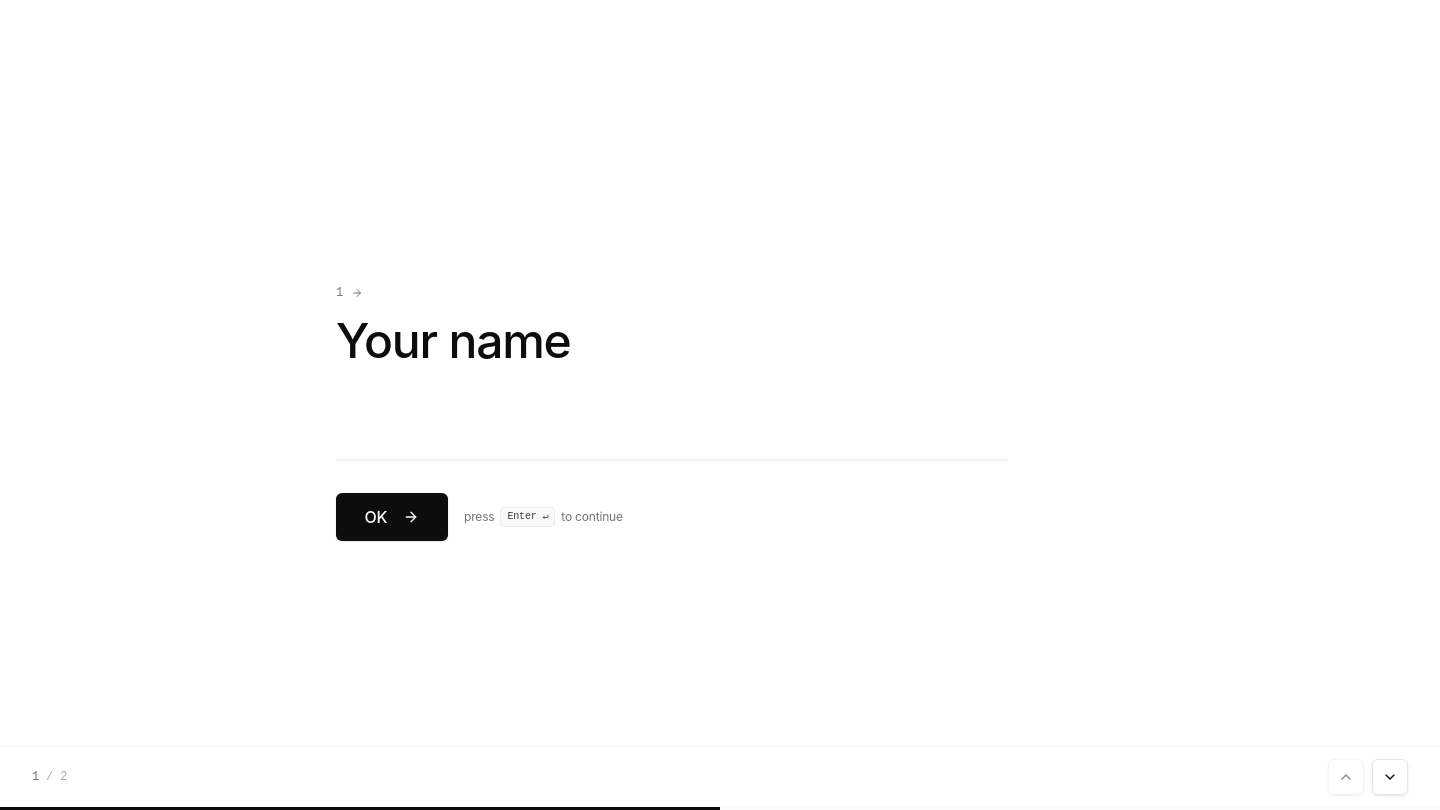
one-question flow on the last question › ignores Escape that an open control already handled
Click the button "OK" at (392, 517), box top-left (336, 493), bottom-right (448, 541)
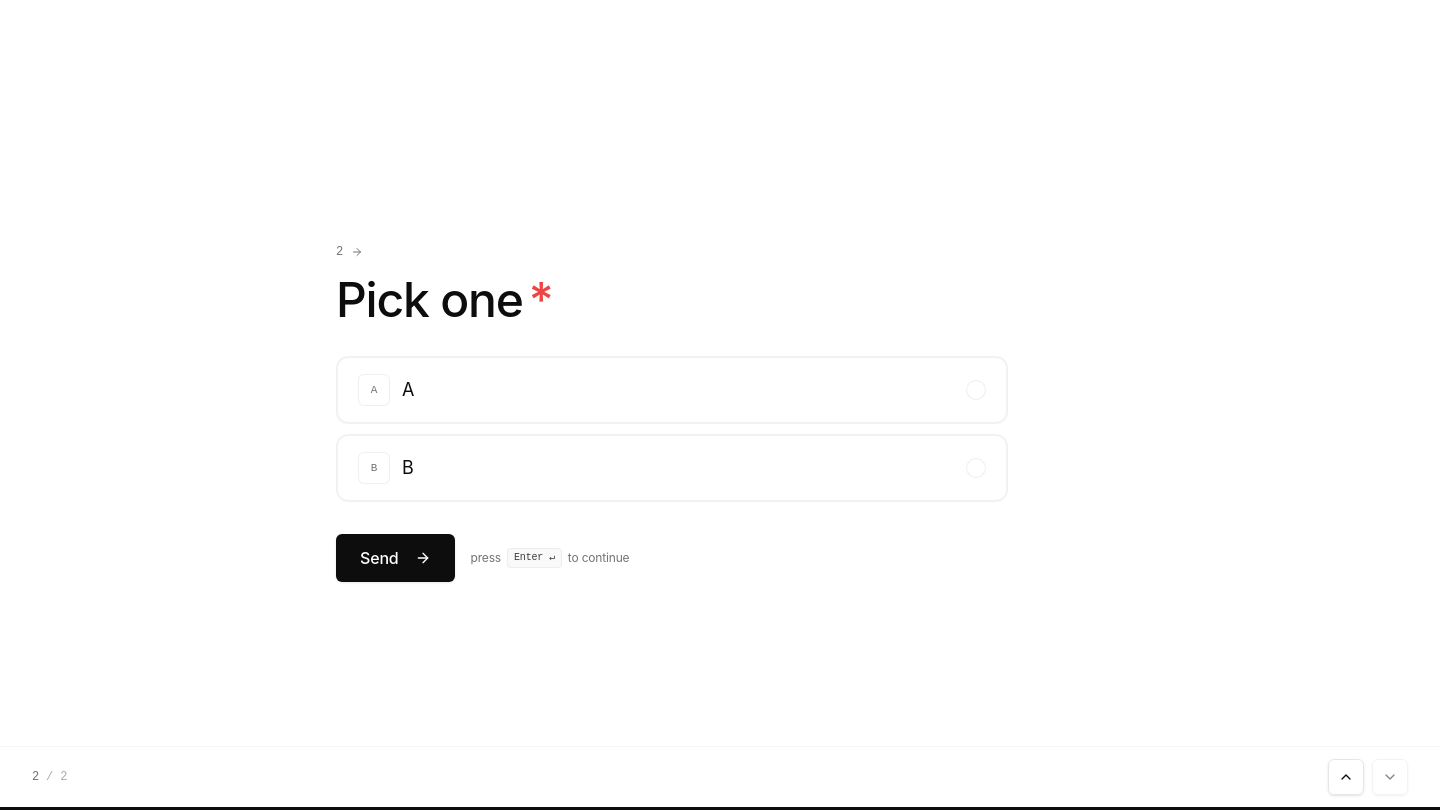
Check: the text "Pick one" is shown, box top-left (336, 270), bottom-right (523, 329)
Press Escape
Check: the text "Pick one" is shown, box top-left (336, 270), bottom-right (523, 329)
Press Escape
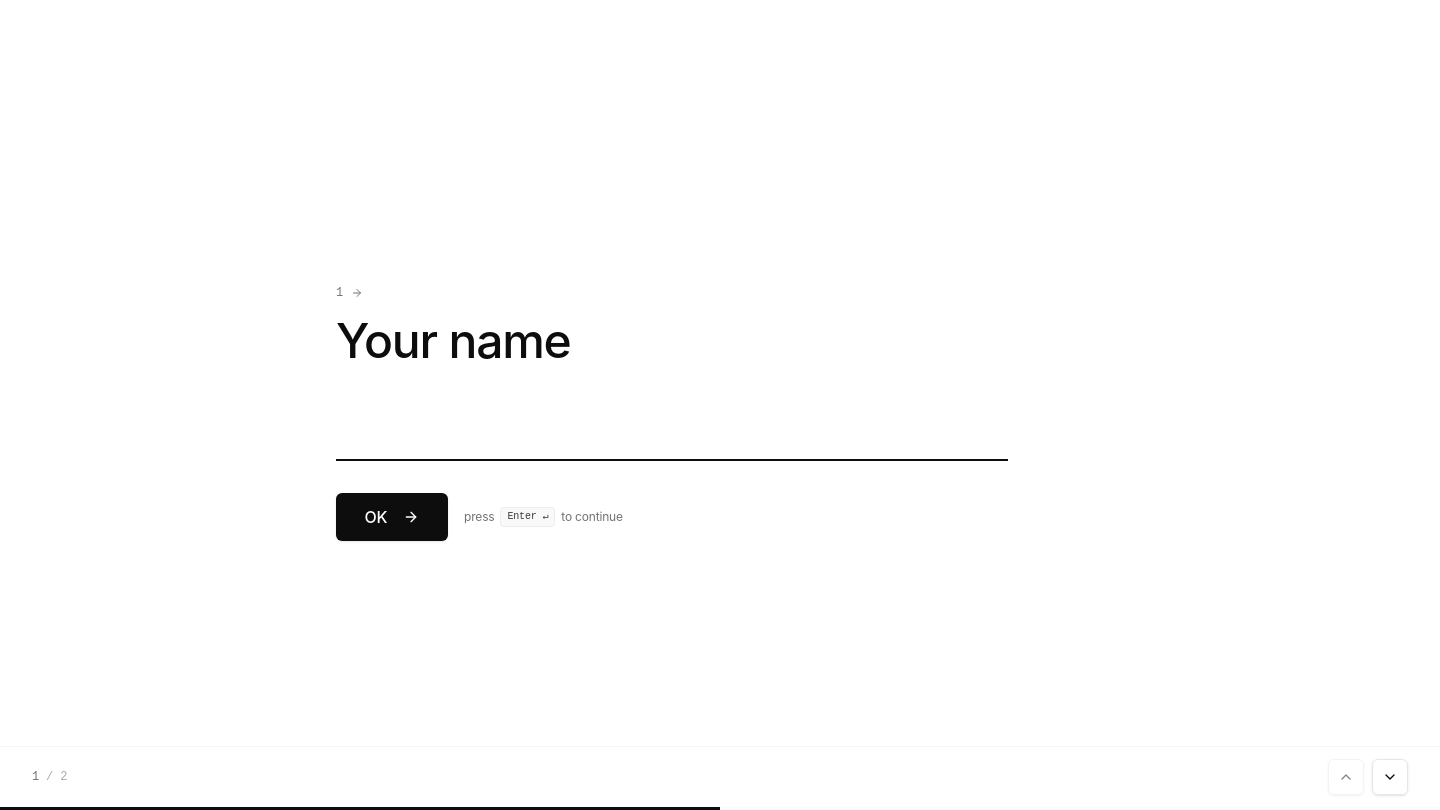
Check: the text "Your name" is shown, box top-left (336, 311), bottom-right (571, 370)
